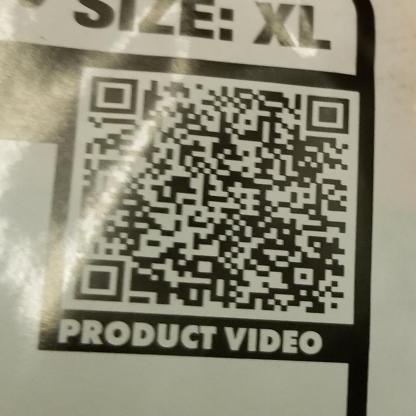qr: (61, 72, 356, 328)
